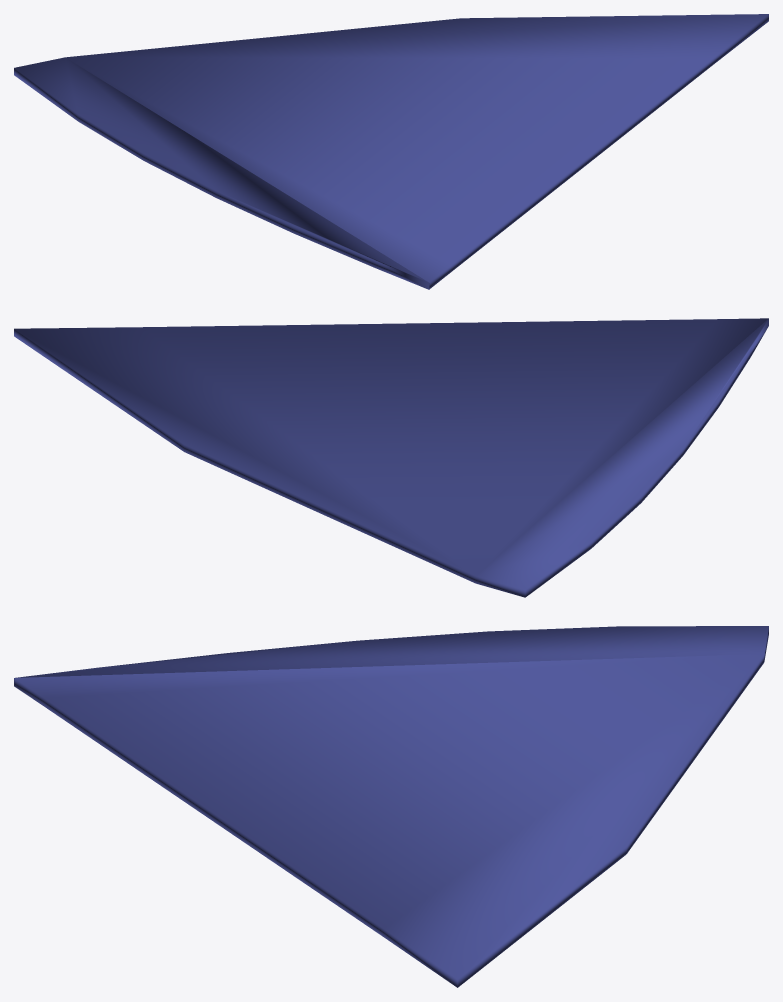
Rendered from 003_ガソスタ地面.glb.
The picture shows the model from 3 angles, top to bottom: view 1: azimuth 30°, elevation 25°; view 2: azimuth 150°, elevation 25°; view 3: azimuth 270°, elevation 25°; orthographic projection. The views are drawn at different scales.
Parts seen in each view (by area): view 1: ガソスタ地面; view 2: ガソスタ地面; view 3: ガソスタ地面.
Part boxes in pixels (box(x1,y1,x2,y2)): ガソスタ地面: box(14, 14, 768, 289); ガソスタ地面: box(14, 318, 768, 597); ガソスタ地面: box(14, 626, 768, 987).
Bounding box in the file's own units: 16.65 × 0.1873 × 15.03.
